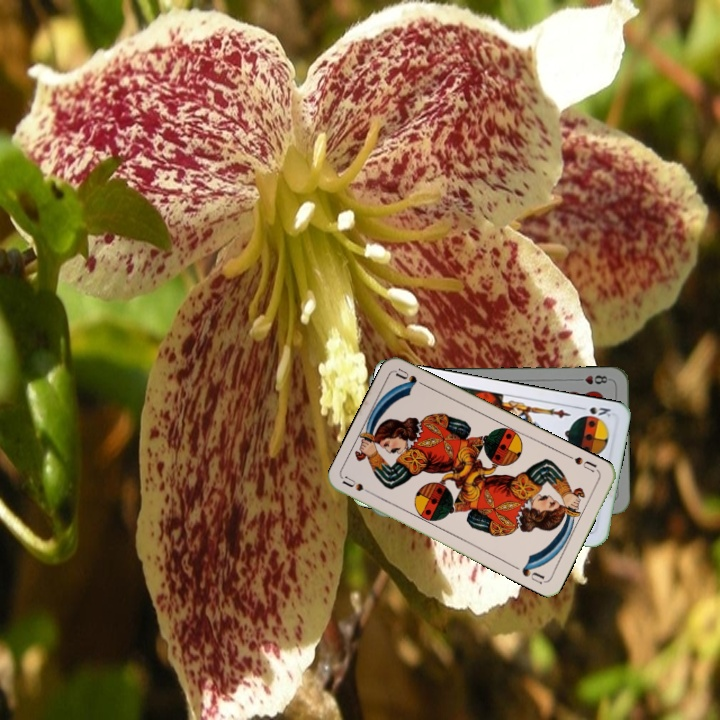H8: (572, 371, 613, 387)
SK: (574, 402, 613, 419)
SU: (339, 473, 378, 499), (563, 451, 601, 475)
